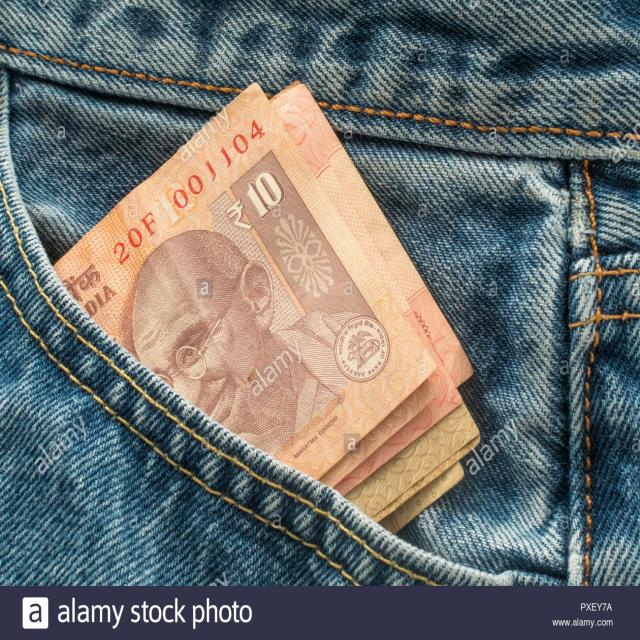10IndianRupees: (92, 76, 440, 460)
